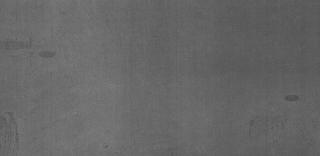oil spot: (38, 50, 58, 60), (282, 93, 302, 103)
water spot: (0, 105, 28, 152), (244, 109, 286, 136), (0, 36, 38, 53)
